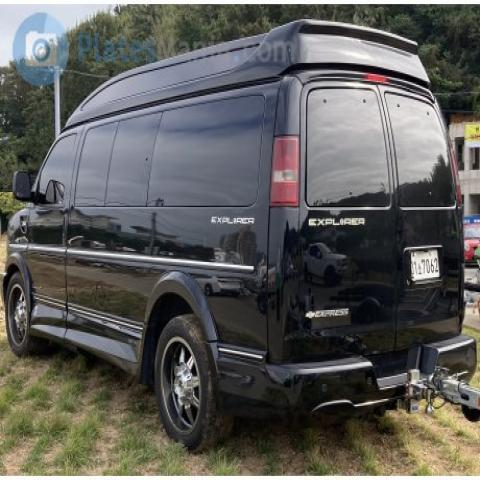LP: (407, 243, 444, 285)
